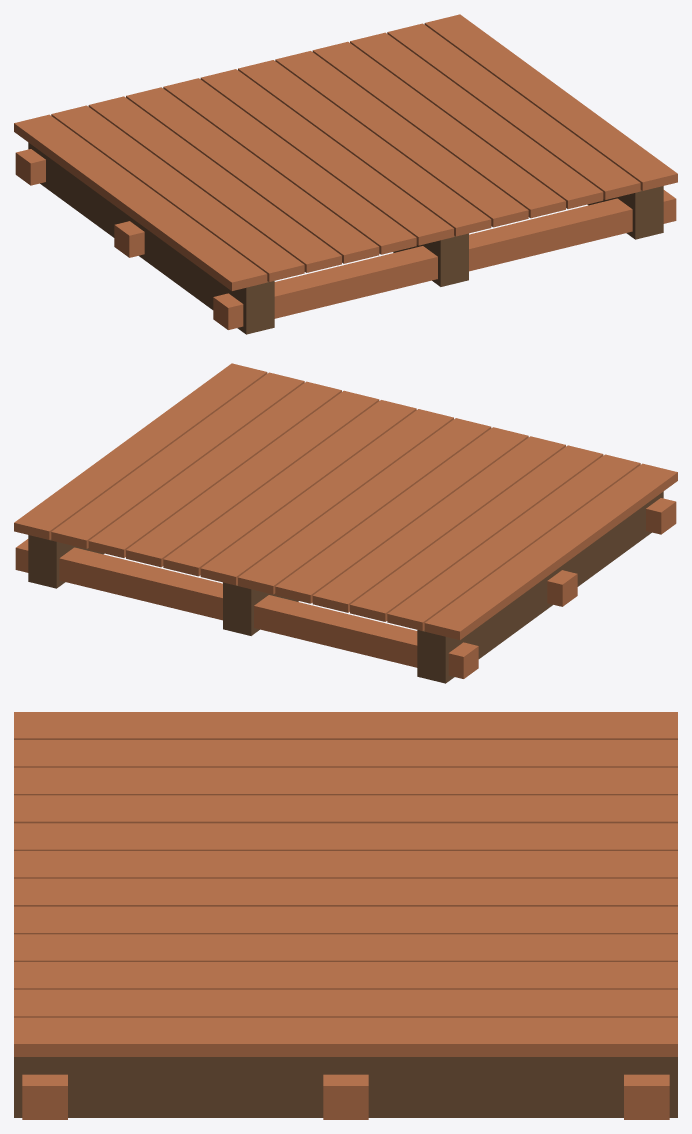
The model's file is DrumRiser.obj.
3 views of the same model, one above another, from view 1: azimuth 30°, elevation 25°; view 2: azimuth 150°, elevation 25°; view 3: azimuth 270°, elevation 25° (orthographic). The views are drawn at different scales.
Visible parts, largest first — view 1: DrumRiser; view 2: DrumRiser; view 3: DrumRiser.
Part boxes in pixels (x1,y1,x2,y2): DrumRiser: [14, 14, 677, 334]; DrumRiser: [14, 363, 677, 683]; DrumRiser: [14, 712, 677, 1119].
Size of the model in its own units: 3.8 by 0.45 by 3.2.
1 material, 1 textured.
